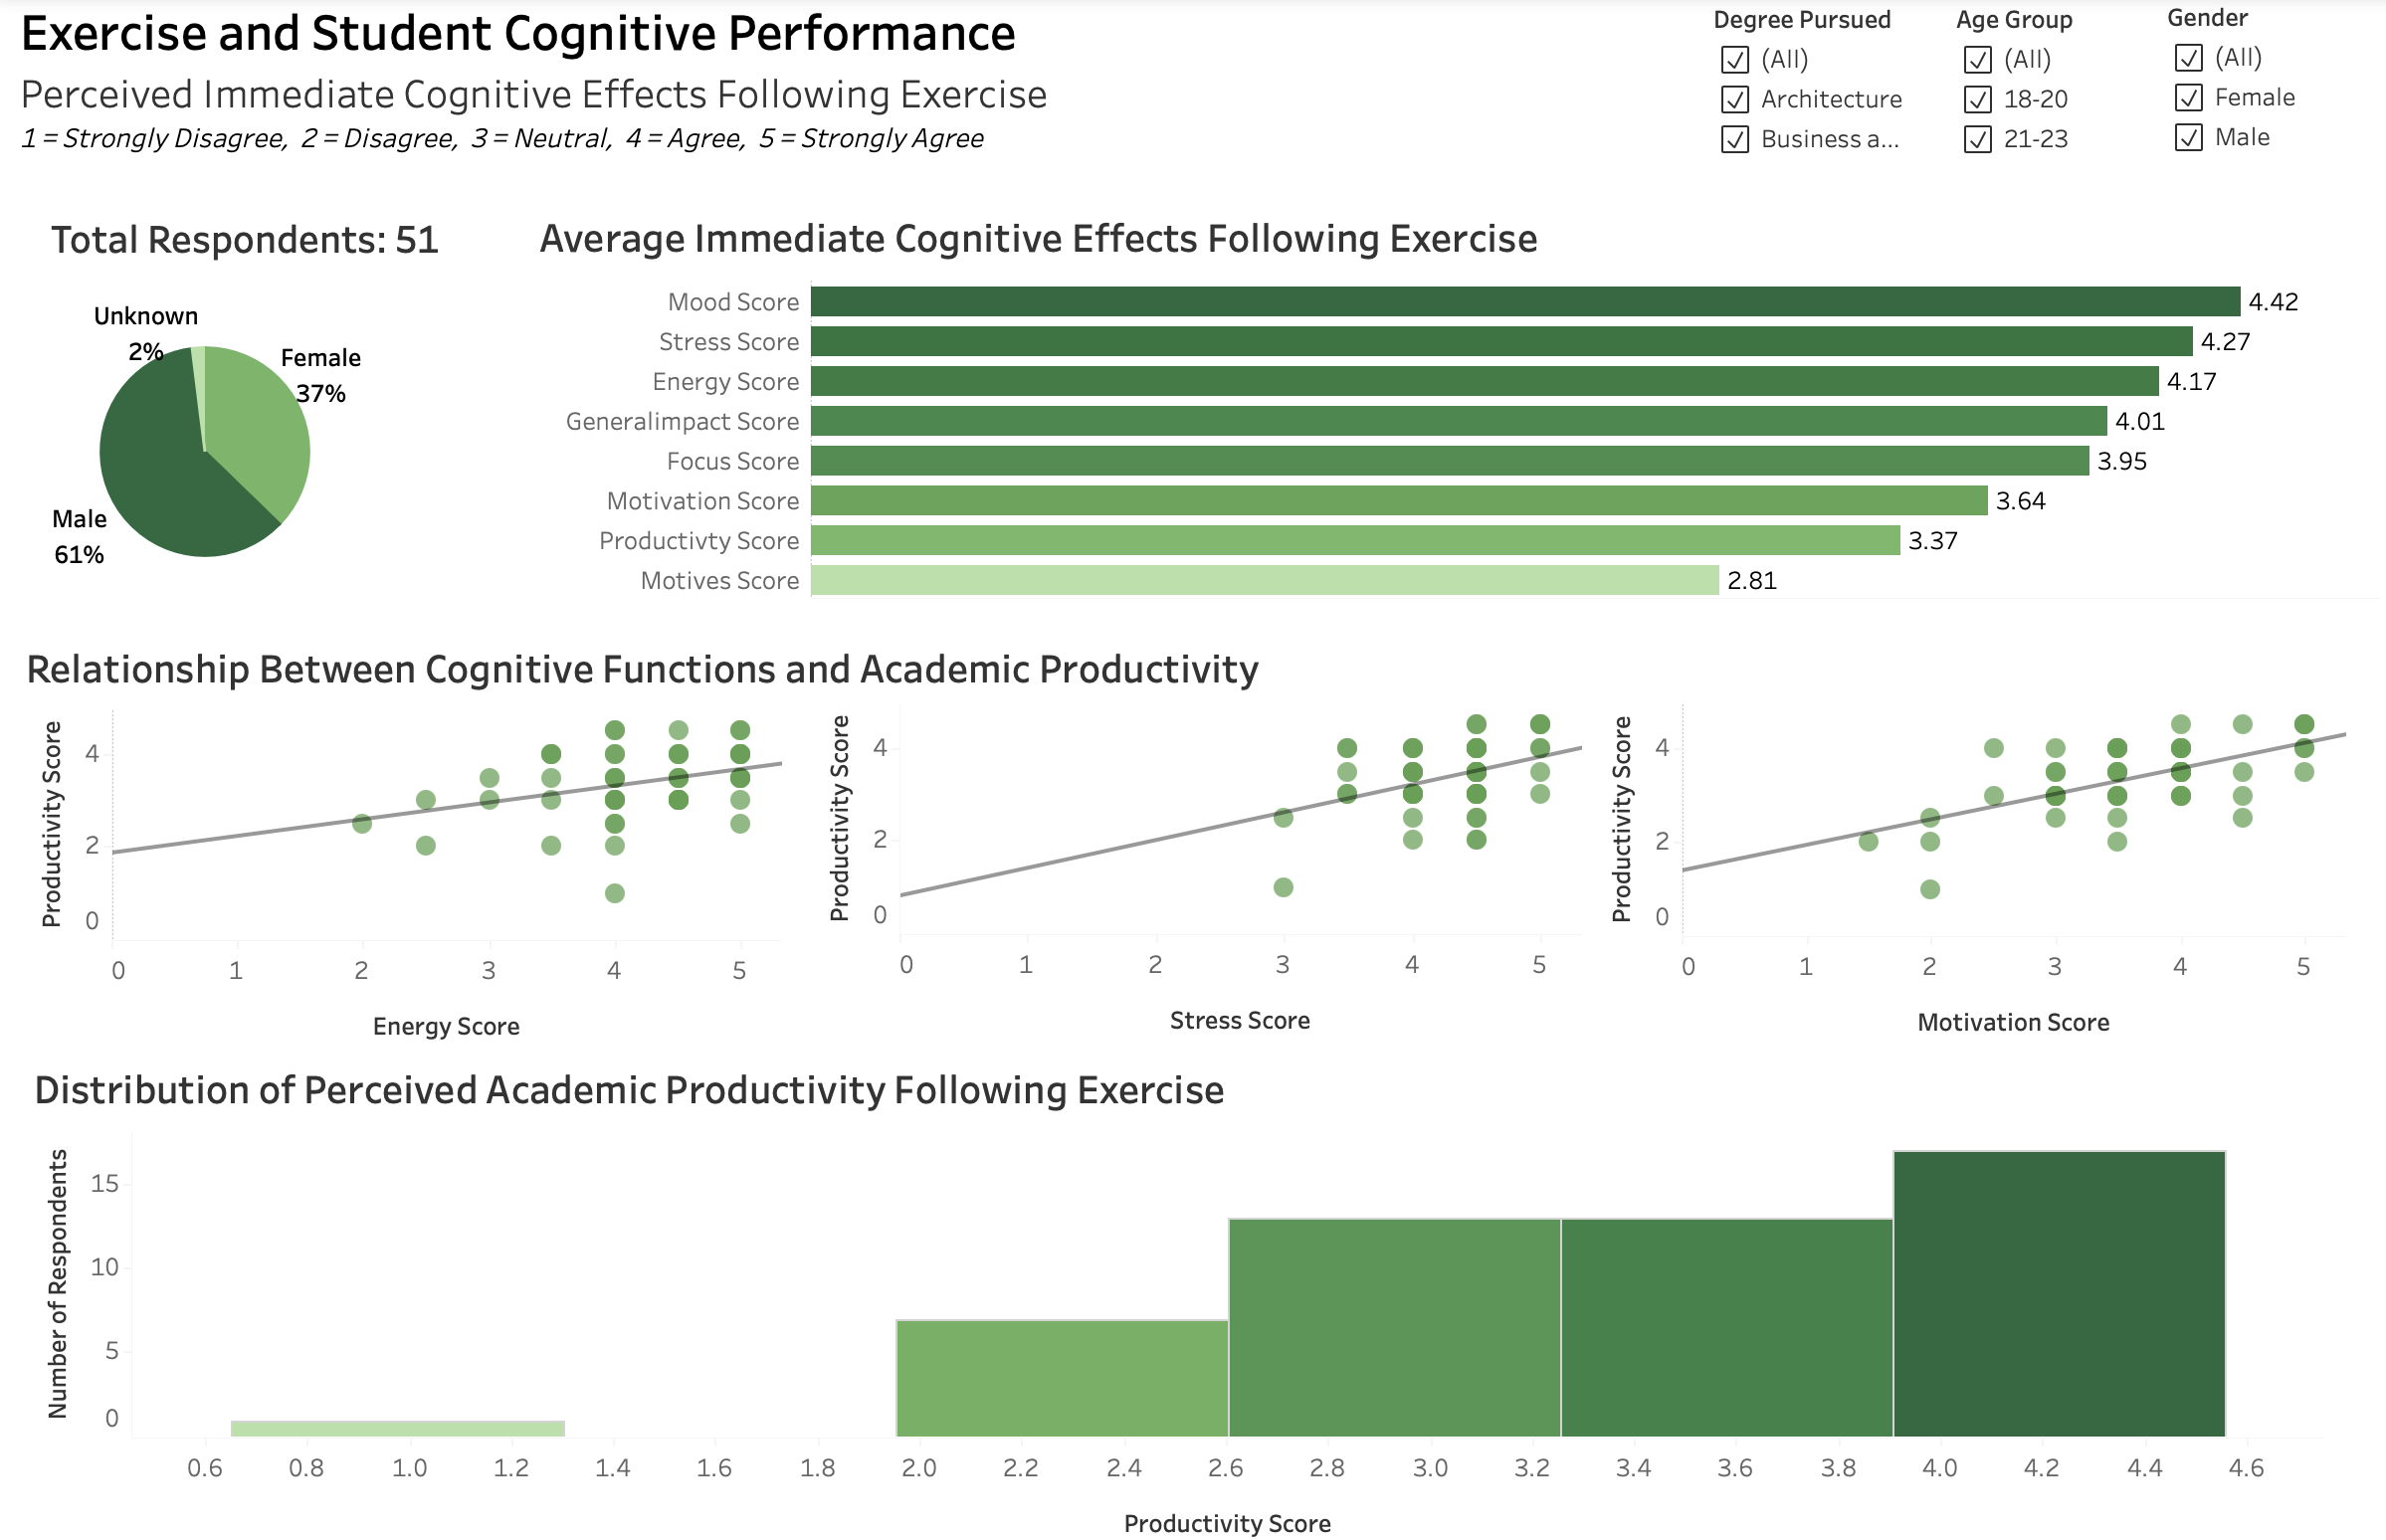

Layout of this report page (visuals, bound fields, positions):
{"tool":"tableau","page":{"name":"Cognitive Effects of Exercise","canvas":[1200,800],"ordinal":0},"visuals":[{"type":"title","box":[8,8,1184,88]},{"type":"filter","title":"cognitive_effects","param":"[federated.0rytt0715t6ozk1b7npcw0uq4gav].[none:Calculation_0001078958084104:nk]","box":[1091,12,100,83]},{"type":"filter","title":"cognitive_effects","param":"[federated.0rytt0715t6ozk1b7npcw0uq4gav].[none:Calculation_0001148241850423:nk]","box":[863,13,116,83]},{"type":"filter","title":"cognitive_effects","param":"[federated.0rytt0715t6ozk1b7npcw0uq4gav].[none:Calculation_0001148241506358:nk]","box":[985,13,101,83]},{"type":"text","box":[8,96,1184,249.6]},{"type":"worksheet","title":"cognitive_effects","mark":"Automatic","box":[269,112,929,218]},{"type":"worksheet","title":"respondents_count","mark":"Automatic","box":[18,119,223,34]},{"type":"worksheet","title":"gender_disribution","mark":"Pie","box":[25,160,183,161]},{"type":"text","box":[15,329,703,38]},{"type":"text","box":[8,345.6,1184,446.4]},{"type":"worksheet","title":"stressred_prod","mark":"Circle","rows":["productivty_score"],"cols":["stress_score"],"box":[408,367,389,172]},{"type":"worksheet","title":"mot_prod","mark":"Circle","rows":["productivty_score"],"cols":["motivation_score"],"box":[801,367,380,173]},{"type":"worksheet","title":"energy_prod","mark":"Circle","rows":["productivty_score"],"cols":["energy_score"],"box":[12,370,383,172]},{"type":"worksheet","title":"prod_distribution","mark":"Automatic","rows":["respondent_id"],"cols":["Productivty Score (bin)"],"box":[15,540,1155,252]}]}

Visuals, with their boxes on the page's 1200x800 design canvas (x1, y1, x2, y2). These are canvas units, not pixel positions in the 2386x1540 screenshot, which may show the page scaled, cropped or inside an application window:
title: rect(8, 8, 1192, 96)
"cognitive_effects" filter: rect(1091, 12, 1191, 95)
"cognitive_effects" filter: rect(863, 13, 979, 96)
"cognitive_effects" filter: rect(985, 13, 1086, 96)
text: rect(8, 96, 1192, 346)
"cognitive_effects" worksheet: rect(269, 112, 1198, 330)
"respondents_count" worksheet: rect(18, 119, 241, 153)
"gender_disribution" worksheet (Pie marks): rect(25, 160, 208, 321)
text: rect(15, 329, 718, 367)
text: rect(8, 346, 1192, 792)
"stressred_prod" worksheet (Circle marks): rect(408, 367, 797, 539)
"mot_prod" worksheet (Circle marks): rect(801, 367, 1181, 540)
"energy_prod" worksheet (Circle marks): rect(12, 370, 395, 542)
"prod_distribution" worksheet: rect(15, 540, 1170, 792)
